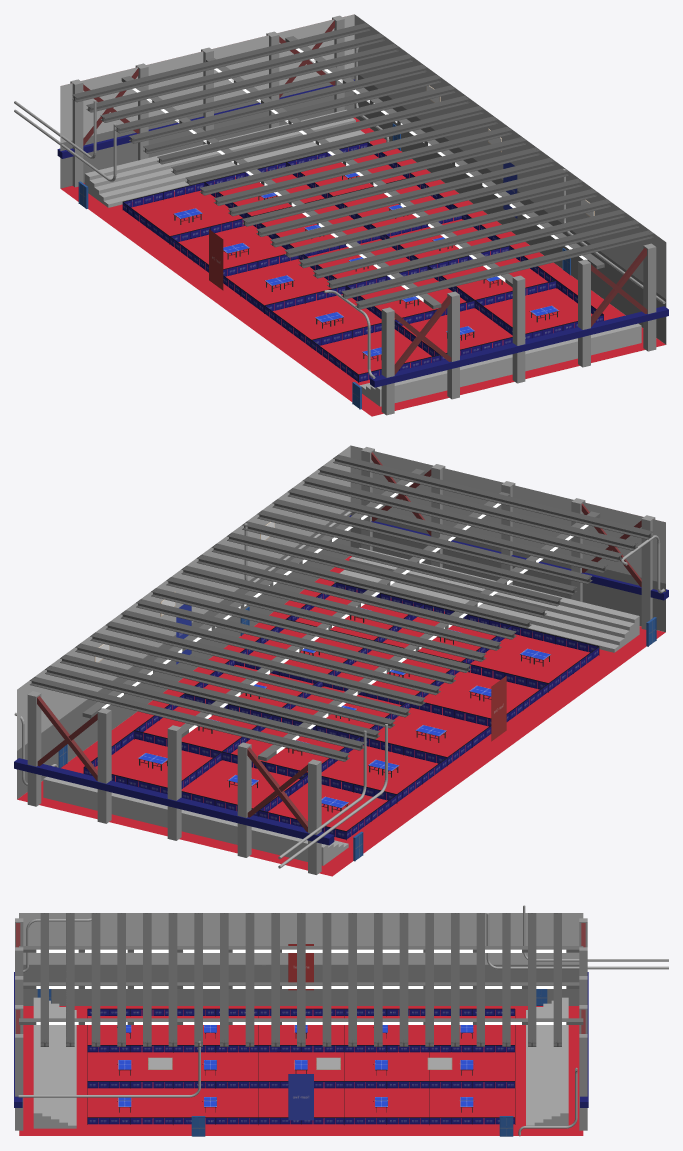
The model's file is PGP_HALL.gltf.
The picture shows the model from 3 angles, top to bottom: view 1: azimuth 30°, elevation 25°; view 2: azimuth 150°, elevation 25°; view 3: azimuth 270°, elevation 25°; orthographic projection. The views are drawn at different scales.
Visible parts, largest first — view 1: Hall, Seating, HorizontalBeam, CeilingBeam, CeilingBeam.014, CeilingBeam.005, CeilingBeam.006, CeilingBeam.011, CeilingBeam.016, CeilingBeam.008, CeilingBeam.010, CeilingBeam.012 (+34 smaller); view 2: Hall, Seating.005, HorizontalBeam.001, CeilingBeam.004, CeilingBeam.009, CeilingBeam.010, CeilingBeam.002, CeilingBeam.003, CeilingBeam.005, CeilingBeam.011, CeilingBeam.012, CeilingBeam.016 (+37 smaller); view 3: Hall, LightFixtureThing.001, LightFixtureThing.002, LightFixtureThing, CeilingBeam.002, CeilingBeam.005, CeilingBeam.008, CeilingBeam.011, CeilingBeam.014, LightFixture.002, Banner.001, CeilingBeam (+55 smaller).
Part boxes in pixels (x1,y1,x2,y2): Hall: [60, 14, 666, 416]; Seating: [375, 323, 641, 406]; HorizontalBeam: [370, 306, 668, 387]; CeilingBeam: [355, 230, 654, 309]; CeilingBeam.014: [157, 85, 455, 164]; CeilingBeam.005: [284, 178, 583, 257]; CeilingBeam.006: [270, 168, 569, 247]; CeilingBeam.011: [200, 116, 498, 195]; CeilingBeam.016: [128, 64, 427, 143]; CeilingBeam.008: [242, 147, 540, 226]; CeilingBeam.010: [214, 126, 512, 205]; CeilingBeam.012: [185, 106, 484, 185]; Hall: [17, 445, 665, 876]; Seating.005: [43, 776, 328, 865]; HorizontalBeam.001: [14, 758, 334, 845]; CeilingBeam.004: [272, 499, 592, 584]; CeilingBeam.009: [196, 554, 516, 639]; CeilingBeam.010: [181, 565, 501, 650]; CeilingBeam.002: [302, 477, 622, 561]; CeilingBeam.003: [287, 488, 607, 572]; CeilingBeam.005: [257, 510, 577, 595]; CeilingBeam.011: [166, 577, 486, 661]; CeilingBeam.012: [151, 588, 471, 672]; CeilingBeam.016: [90, 632, 410, 717]; Hall: [19, 913, 583, 1135]; LightFixtureThing.001: [19, 1018, 583, 1024]; LightFixtureThing.002: [19, 946, 583, 952]; LightFixtureThing: [23, 982, 579, 988]; CeilingBeam.002: [91, 913, 100, 1046]; CeilingBeam.005: [168, 913, 177, 1046]; CeilingBeam.008: [245, 913, 254, 1046]; CeilingBeam.011: [322, 913, 331, 1046]; CeilingBeam.014: [399, 913, 408, 1046]; LightFixture.002: [36, 949, 566, 952]; Banner.001: [288, 1074, 313, 1120]; CeilingBeam: [40, 913, 48, 1046].
Size of the model in its own units: 37.33 by 13.1 by 76.6.
Materials: 16 (9 with a texture image).
